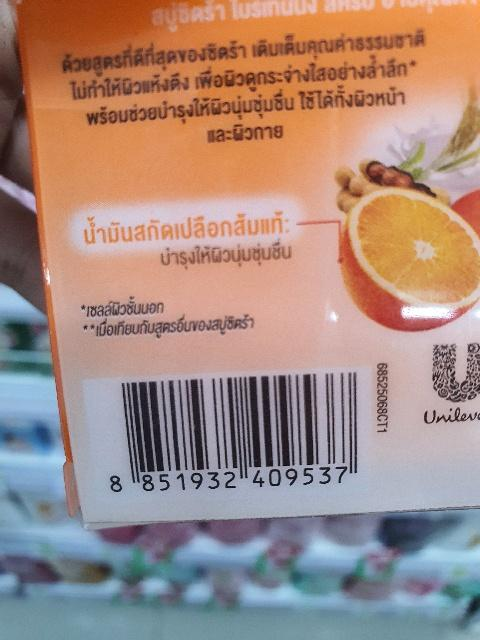Barcode: (103, 367, 365, 499)
